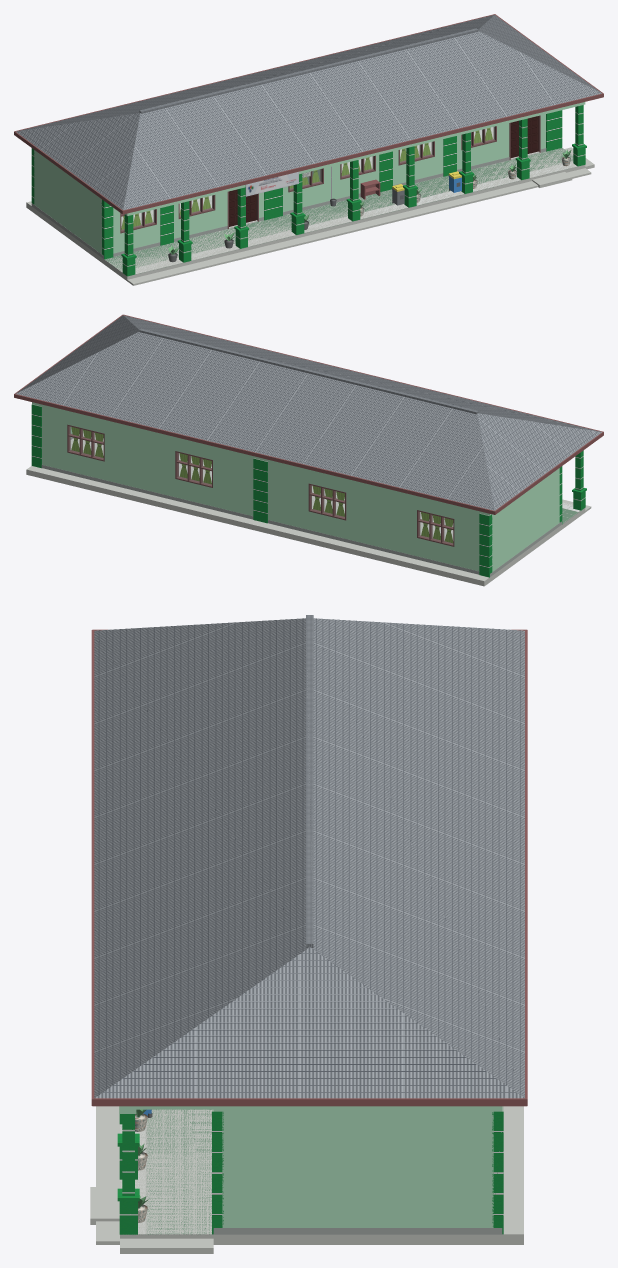
The model's file is lab_kc.glb.
3 renders of one model, top to bottom at view 1: azimuth 30°, elevation 25°; view 2: azimuth 150°, elevation 25°; view 3: azimuth 270°, elevation 25°, orthographic. The views are drawn at different scales.
Parts seen in each view (by area): view 1: Atap_Genteng_Metal_Abu, Fondasi_Dan_Apron_Beton, Dinding_Hijau_Mint, Pilar_Dan_Tiang_Hijau_GarisPutih, Lantai_Teras_Keramik_HijauPutih, Lisplang_Marun_Dan_RakSepatu, Kusen_Coklat_Gelap, Kaca_Jendela_Transparan, Pintu_Panel_Kayu_Ganda, Plint_Dinding_Abu, Gorden_Hijau_Ikat_Jendela, Spanduk_LKS_Beauty_Therapy (+1 smaller); view 2: Atap_Genteng_Metal_Abu, Dinding_Hijau_Mint, Fondasi_Dan_Apron_Beton, Lisplang_Marun_Dan_RakSepatu, Pilar_Dan_Tiang_Hijau_GarisPutih, Kaca_Jendela_Transparan, Kusen_Coklat_Gelap, Plint_Dinding_Abu, Gorden_Hijau_Ikat_Jendela, Lantai_2_Ruangan_LabKC; view 3: Atap_Genteng_Metal_Abu, Dinding_Hijau_Mint, Fondasi_Dan_Apron_Beton, Lisplang_Marun_Dan_RakSepatu, Lantai_Teras_Keramik_HijauPutih, Pilar_Dan_Tiang_Hijau_GarisPutih, Plint_Dinding_Abu.
Part boxes in pixels (<box>): Atap_Genteng_Metal_Abu: <box>16,14,601,210</box>; Fondasi_Dan_Apron_Beton: <box>26,147,594,285</box>; Dinding_Hijau_Mint: <box>34,102,585,253</box>; Pilar_Dan_Tiang_Hijau_GarisPutih: <box>31,105,586,276</box>; Lantai_Teras_Keramik_HijauPutih: <box>104,148,576,275</box>; Lisplang_Marun_Dan_RakSepatu: <box>14,14,603,214</box>; Kusen_Coklat_Gelap: <box>120,115,540,233</box>; Kaca_Jendela_Transparan: <box>121,127,494,230</box>; Pintu_Panel_Kayu_Ganda: <box>229,116,538,226</box>; Plint_Dinding_Abu: <box>31,148,546,258</box>; Gorden_Hijau_Ikat_Jendela: <box>121,127,492,229</box>; Spanduk_LKS_Beauty_Therapy: <box>245,171,298,196</box>; Atap_Genteng_Metal_Abu: <box>16,315,601,510</box>; Dinding_Hijau_Mint: <box>32,402,559,571</box>; Fondasi_Dan_Apron_Beton: <box>26,466,591,586</box>; Lisplang_Marun_Dan_RakSepatu: <box>14,314,603,514</box>; Pilar_Dan_Tiang_Hijau_GarisPutih: <box>31,404,586,577</box>; Kaca_Jendela_Transparan: <box>69,427,452,543</box>; Kusen_Coklat_Gelap: <box>67,424,454,546</box>; Plint_Dinding_Abu: <box>41,437,561,576</box>; Gorden_Hijau_Ikat_Jendela: <box>71,427,453,543</box>; Lantai_2_Ruangan_LabKC: <box>70,431,453,540</box>; Atap_Genteng_Metal_Abu: <box>94,615,524,1098</box>; Dinding_Hijau_Mint: <box>120,1106,502,1227</box>; Fondasi_Dan_Apron_Beton: <box>90,1106,523,1253</box>; Lisplang_Marun_Dan_RakSepatu: <box>91,629,527,1106</box>; Lantai_Teras_Keramik_HijauPutih: <box>120,1109,212,1235</box>; Pilar_Dan_Tiang_Hijau_GarisPutih: <box>117,1106,503,1234</box>; Plint_Dinding_Abu: <box>213,1228,502,1234</box>.
Bounding box in the file's own units: 23.12 × 5.55 × 9.1.
25 materials, 11 textured.
